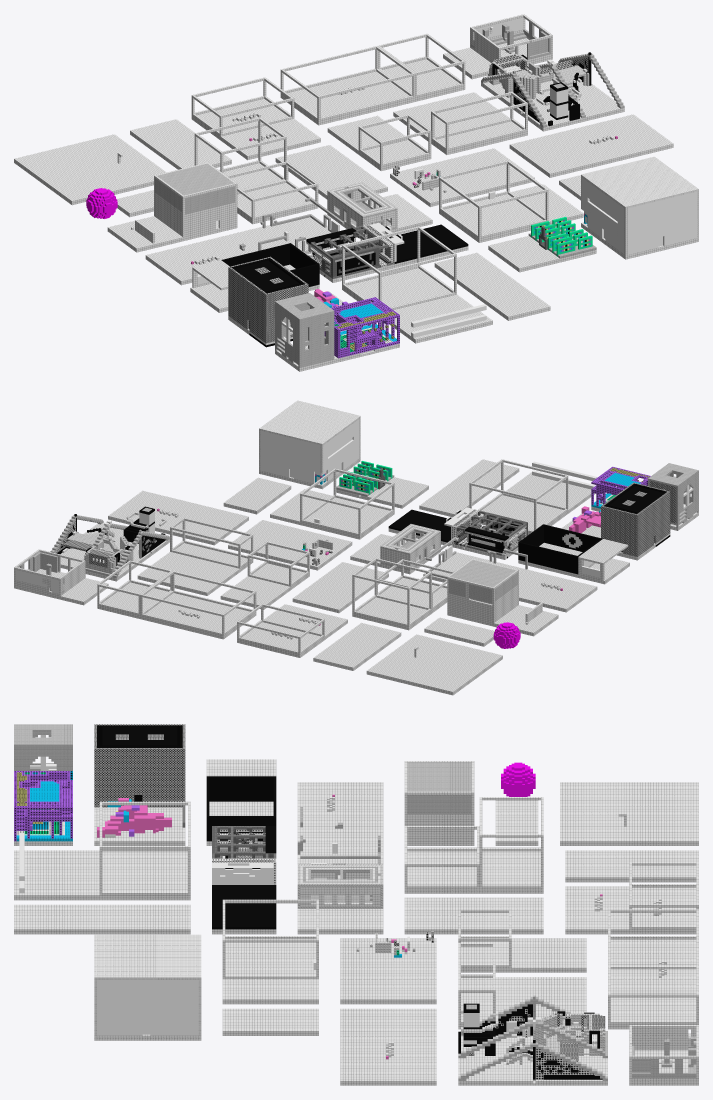
Rendered from Playa-v2.glb.
The picture shows the model from 3 angles, top to bottom: view 1: azimuth 30°, elevation 25°; view 2: azimuth 150°, elevation 25°; view 3: azimuth 270°, elevation 25°; orthographic projection. The views are drawn at different scales.
Parts seen in each view (by area): view 1: solid-voxels_17.020; view 2: solid-voxels_17.020; view 3: solid-voxels_17.020.
Boxes of the visible parts, x1,y1,x2,y2 form: solid-voxels_17.020: (14,14,698,371); solid-voxels_17.020: (14,400,698,695); solid-voxels_17.020: (14,724,698,1085).
Bounding box in the file's own units: 132 × 13 × 128.
1 material, 1 textured.
